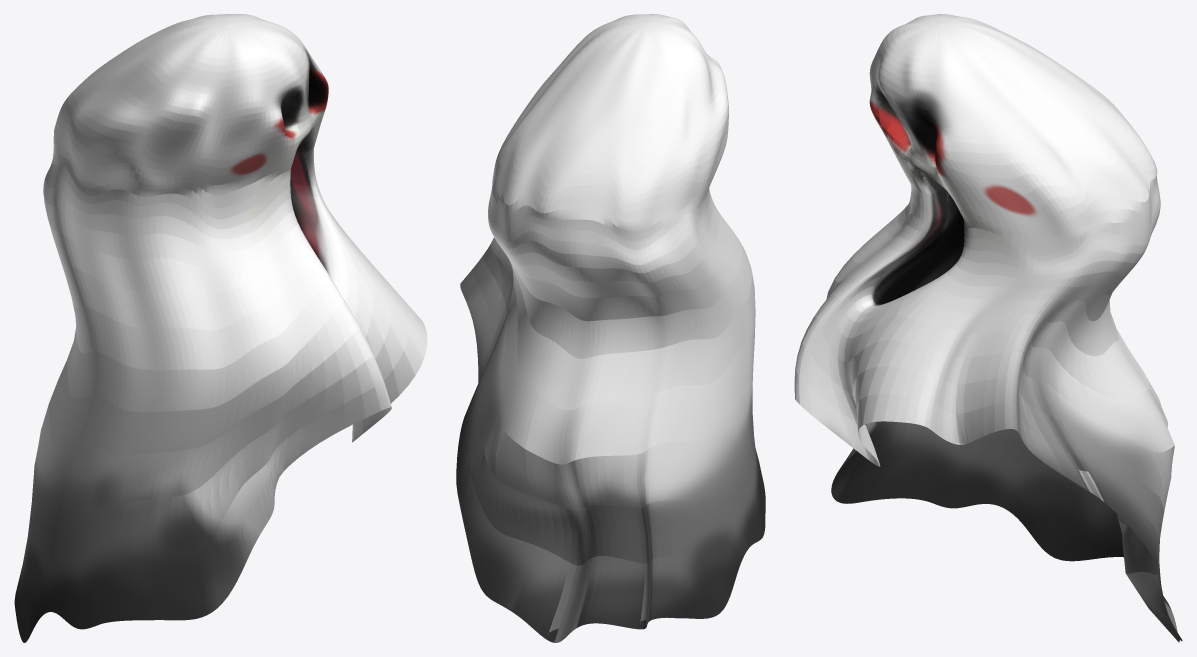
Rendered from ghost_000024.obj.
3 views of the same model, side by side, from view 1: azimuth 30°, elevation 25°; view 2: azimuth 150°, elevation 25°; view 3: azimuth 270°, elevation 25° (orthographic). The views are drawn at different scales.
Parts seen in each view (by area): view 1: 球体; view 2: 球体; view 3: 球体.
Boxes of the visible parts, x1,y1,x2,y2 form: 球体: [14, 14, 427, 642]; 球体: [456, 14, 765, 642]; 球体: [794, 14, 1182, 642].
Size of the model in its own units: 8.62 by 15.89 by 8.99.
1 material, 1 textured.
